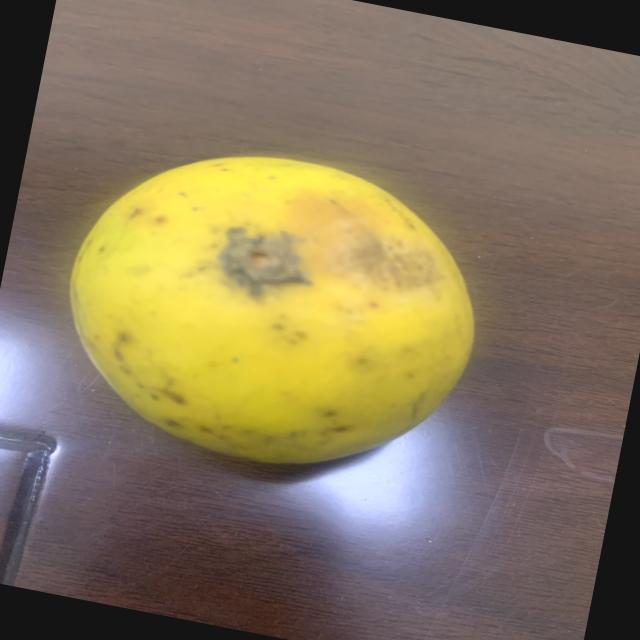Ripe orange: (38, 123, 514, 504)
